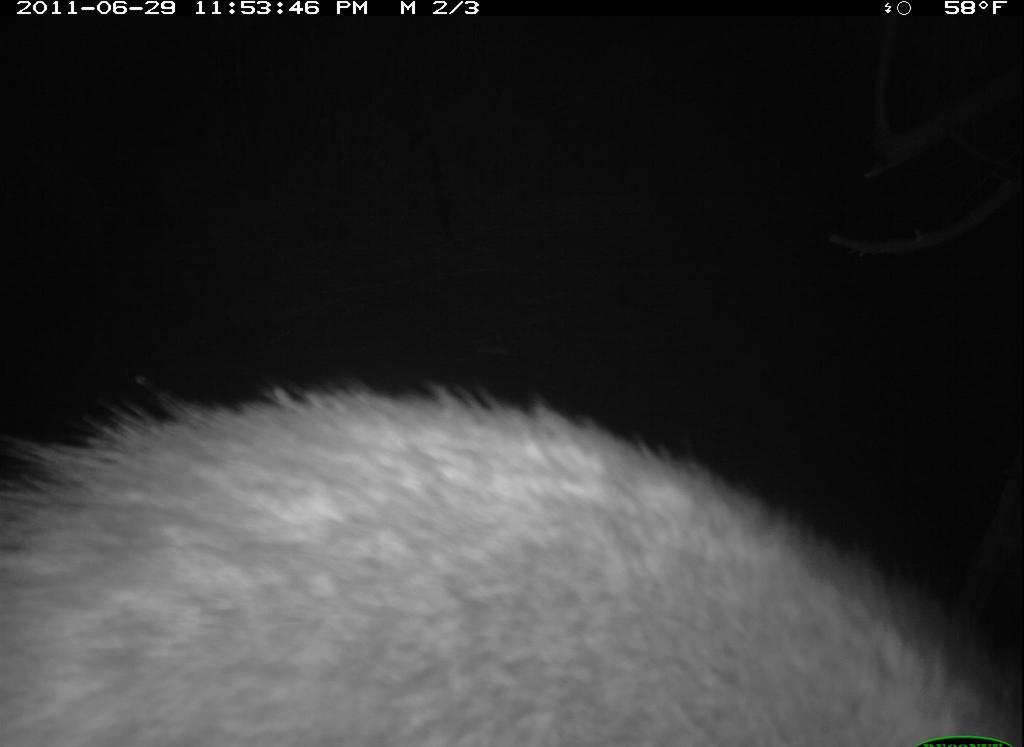raccoon: (4, 358, 1021, 745)
